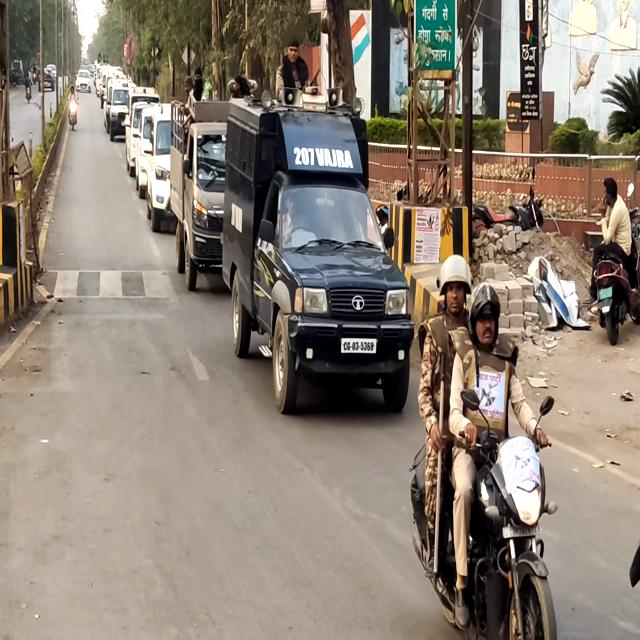emergency-vehicles: (230, 79, 425, 431), (143, 98, 185, 238)
